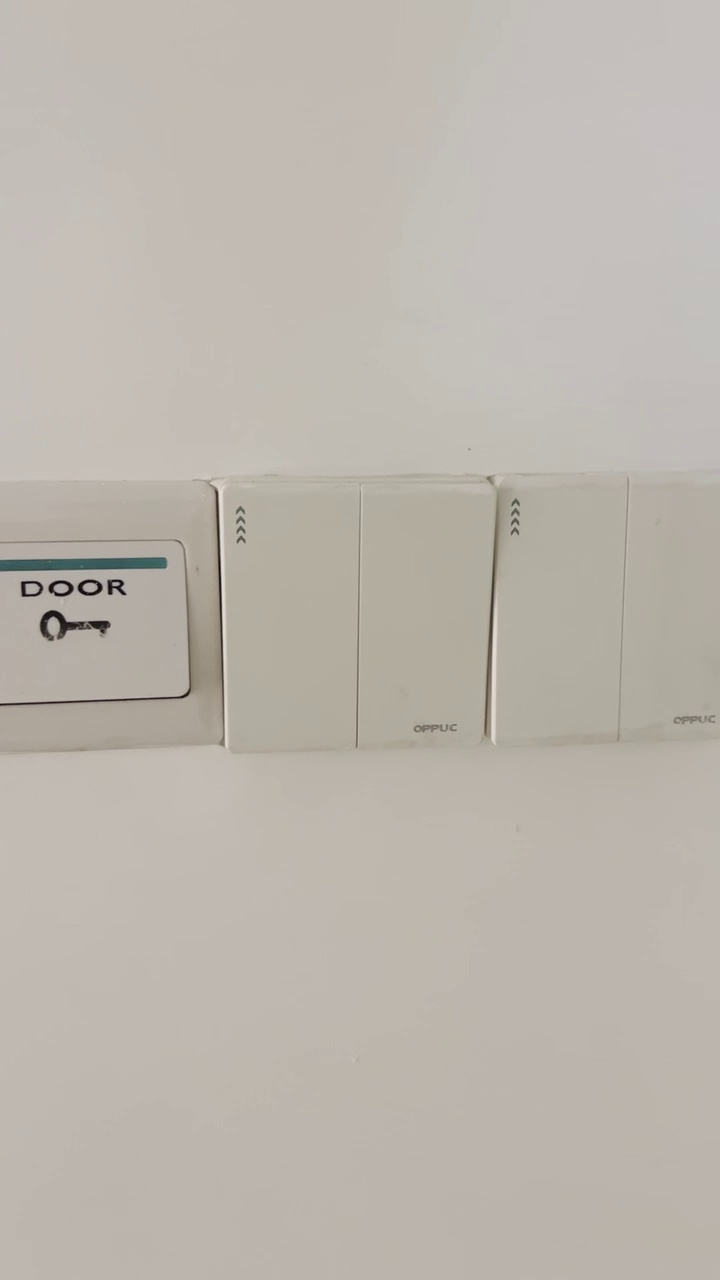button1: (498, 474, 618, 745), (364, 485, 486, 743), (231, 491, 354, 746), (633, 484, 720, 735)
